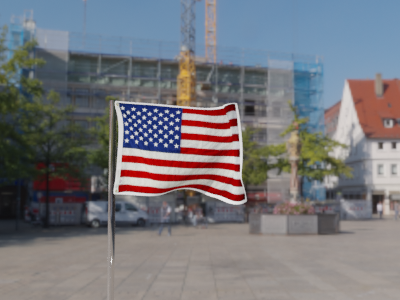America flag: (111, 100, 249, 207)
